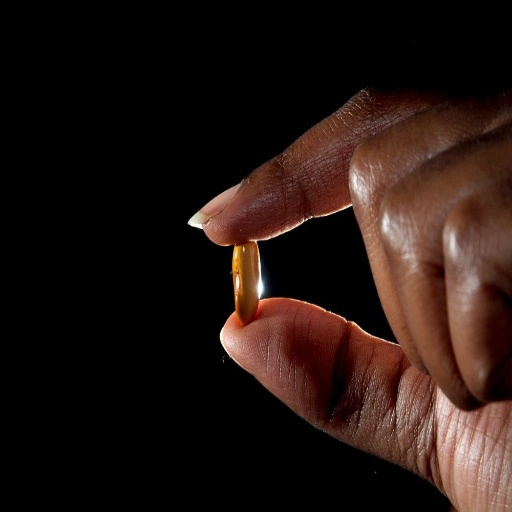hand: (190, 37, 512, 473)
